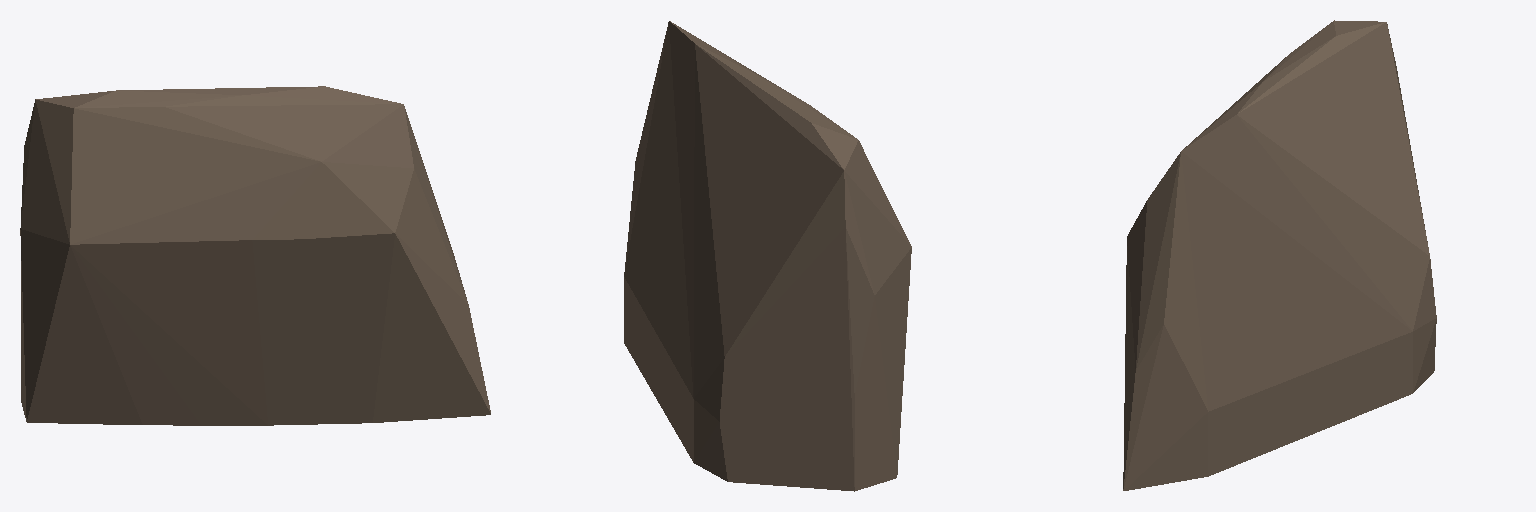
URDF robot description (obj_01):
<?xml version="1.0"?>
<robot name="obj_01">
  <!-- toaster oven: metal, 23006 g. Written by Darius 0.2.0. Link frame: +z up, origin at the capture-time bounding-box center; place it at the pose in world.json -->
  <mujoco>
    <compiler meshdir="../meshes/" discardvisual="true" balanceinertia="true" fusestatic="false" />
  </mujoco>
  <link name="obj_01">
    <inertial>
      <origin xyz="-0.02373 -0.00246 -0.0209" rpy="0 0 0" />
      <mass value="23.0059" />
      <inertia ixx="0.383313" ixy="0.147303" ixz="0.0370129" iyy="0.514199" iyz="0.0142374" izz="0.384519" />
    </inertial>
    <visual>
      <geometry>
        <mesh filename="../meshes/obj_01_visual.obj" />
      </geometry>
      <material name="obj_01_color">
        <color rgba="0.482 0.424 0.369 1" />
      </material>
    </visual>
    <collision name="obj_01_part0">
      <geometry>
        <mesh filename="../meshes/obj_01_part0.obj" />
      </geometry>
    </collision>
    <collision name="obj_01_part1">
      <geometry>
        <mesh filename="../meshes/obj_01_part1.obj" />
      </geometry>
    </collision>
    <collision name="obj_01_part2">
      <geometry>
        <mesh filename="../meshes/obj_01_part2.obj" />
      </geometry>
    </collision>
    <collision name="obj_01_part3">
      <geometry>
        <mesh filename="../meshes/obj_01_part3.obj" />
      </geometry>
    </collision>
    <collision name="obj_01_part4">
      <geometry>
        <mesh filename="../meshes/obj_01_part4.obj" />
      </geometry>
    </collision>
    <collision name="obj_01_part5">
      <geometry>
        <mesh filename="../meshes/obj_01_part5.obj" />
      </geometry>
    </collision>
    <collision name="obj_01_part6">
      <geometry>
        <mesh filename="../meshes/obj_01_part6.obj" />
      </geometry>
    </collision>
    <collision name="obj_01_part7">
      <geometry>
        <mesh filename="../meshes/obj_01_part7.obj" />
      </geometry>
    </collision>
    <contact>
      <lateral_friction value="0.5" />
      <restitution value="0.1" />
    </contact>
  </link>
</robot>

--- What the picture shows (computed from the rendered views, not written in the file) ---
Views: 3 orthographic renders of the robot side by side, from view 1: azimuth 30°, elevation 25°; view 2: azimuth 150°, elevation 25°; view 3: azimuth 270°, elevation 25°.
Model obj_01 with 1 links and 0 joints (none), rooted at obj_01, posed all joints at 0.
Links seen in each view (by area): view 1: obj_01; view 2: obj_01; view 3: obj_01.
Boxes of the visible links, box(x1,y1,x2,y2) form: obj_01: box(20, 86, 490, 425); obj_01: box(624, 21, 911, 491); obj_01: box(1123, 20, 1436, 490).
Bounding box of the posed robot: 0.3563 × 0.266 × 0.301 m (x, y, z).
Meshes: 1 distinct files referenced, 1 mesh visuals loaded (1 OBJ).
